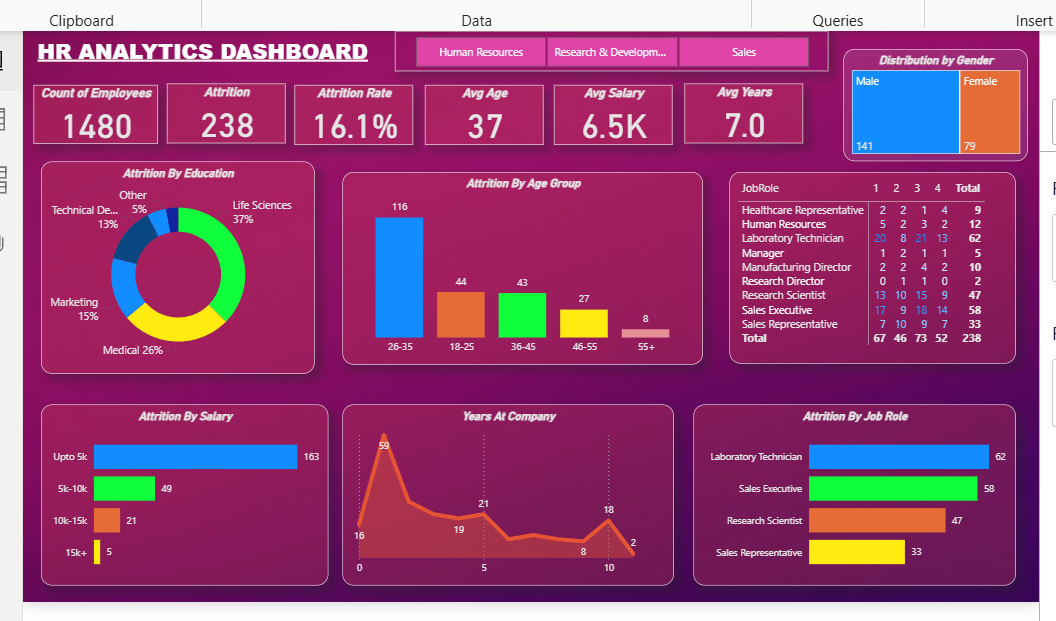

The page's visual inventory and layout, read from the dashboard file:
{"tool":"powerbi","page":{"name":"Page 1","canvas":[1280,720],"ordinal":0},"visuals":[{"type":"card","title":"Count of Employees","fields":{"Values":["CountNonNull(HR_Analytics.EmpID)"]},"box":[12.3,67.2,156.4,74.1],"z":0},{"type":"card","title":"Attrition","fields":{"Values":["Sum(HR_Analytics.AttritionCount)"]},"box":[181.7,67,149.6,75.5],"z":1000},{"type":"card","title":"Attrition Rate","fields":{"Values":["HR_Analytics.AttritionRate"]},"box":[341.7,67.2,149.6,75.5],"z":2000},{"type":"card","title":"Avg Age","fields":{"Values":["Avg(HR_Analytics.Age)"]},"box":[506.3,67.2,149.6,75.5],"z":3000},{"type":"card","title":"Avg Salary","fields":{"Values":["Avg(HR_Analytics.MonthlyIncome)"]},"box":[668.3,67.2,149.6,75.5],"z":4000},{"type":"card","title":"Avg Years","fields":{"Values":["Avg(HR_Analytics.YearsAtCompany)"]},"box":[834.3,65.9,149.6,75.5],"z":5000},{"type":"donutChart","title":"Attrition By Education","fields":{"Category":["HR_Analytics.EducationField"],"Y":["Sum(HR_Analytics.AttritionCount)"]},"box":[22,164.7,344.4,267.6],"z":6000},{"type":"columnChart","title":"Attrition By Age Group","fields":{"Y":["Sum(HR_Analytics.AttritionCount)"],"Category":["HR_Analytics.AgeGroup"]},"box":[403.4,178.4,454.2,242.9],"z":7000},{"type":"pivotTable","fields":{"Rows":["HR_Analytics.JobRole"],"Columns":["HR_Analytics.JobSatisfaction"],"Values":["Sum(HR_Analytics.AttritionCount)"]},"box":[890.6,178.4,360.9,241.5],"z":8000},{"type":"barChart","title":"Attrition By Salary","fields":{"Category":["HR_Analytics.SalarySlab"],"Y":["Sum(HR_Analytics.AttritionCount)"]},"box":[22,470.7,362.3,227.8],"z":9000},{"type":"barChart","title":"Attrition By Job Role","fields":{"Category":["HR_Analytics.JobRole","HR_Analytics.SalarySlab"],"Y":["Sum(HR_Analytics.AttritionCount)"]},"box":[845.3,470.7,406.2,227.8],"z":10000},{"type":"areaChart","title":"Years At Company","fields":{"Category":["HR_Analytics.YearsAtCompany"],"Y":["Sum(HR_Analytics.AttritionCount)"]},"box":[402.1,470.7,417.2,227.8],"z":11000},{"type":"treemap","title":"Distribution by Gender","fields":{"Group":["HR_Analytics.Gender"],"Values":["Sum(HR_Analytics.AttritionCount)"]},"box":[1033.3,23.3,231.9,141.3],"z":12000},{"type":"slicer","fields":{"Values":["HR_Analytics.Department"]},"box":[469.3,0,546.1,50.8],"z":13000},{"type":"textbox","box":[12.3,0,456.9,54.9],"z":14000}]}

Visuals, with their boxes in screenshot pixels (x1, y1, x2, y2):
"Count of Employees" card: 13/82/140/142
"Attrition" card: 151/82/272/143
"Attrition Rate" card: 281/82/402/144
"Avg Age" card: 415/82/536/144
"Avg Salary" card: 546/82/668/144
"Avg Years" card: 682/81/803/143
"Attrition By Education" donutChart: 21/161/301/379
"Attrition By Age Group" columnChart: 331/173/700/370
pivotTable - HR_Analytics.JobRole x HR_Analytics.JobSatisfaction: 727/173/1021/369
"Attrition By Salary" barChart: 21/410/315/596
"Attrition By Job Role" barChart: 690/410/1021/596
"Years At Company" areaChart: 330/410/669/596
"Distribution by Gender" treemap: 843/46/1032/161
slicer - HR_Analytics.Department: 385/28/829/69
textbox: 13/28/384/72
